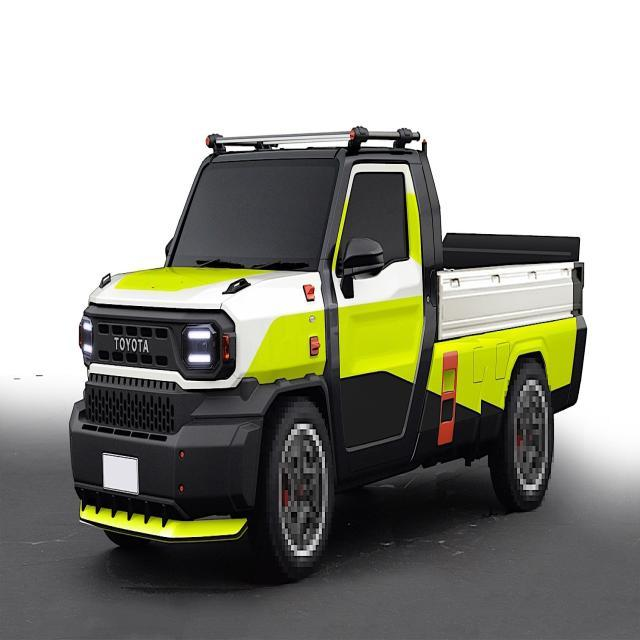person: (68, 123, 588, 582)
